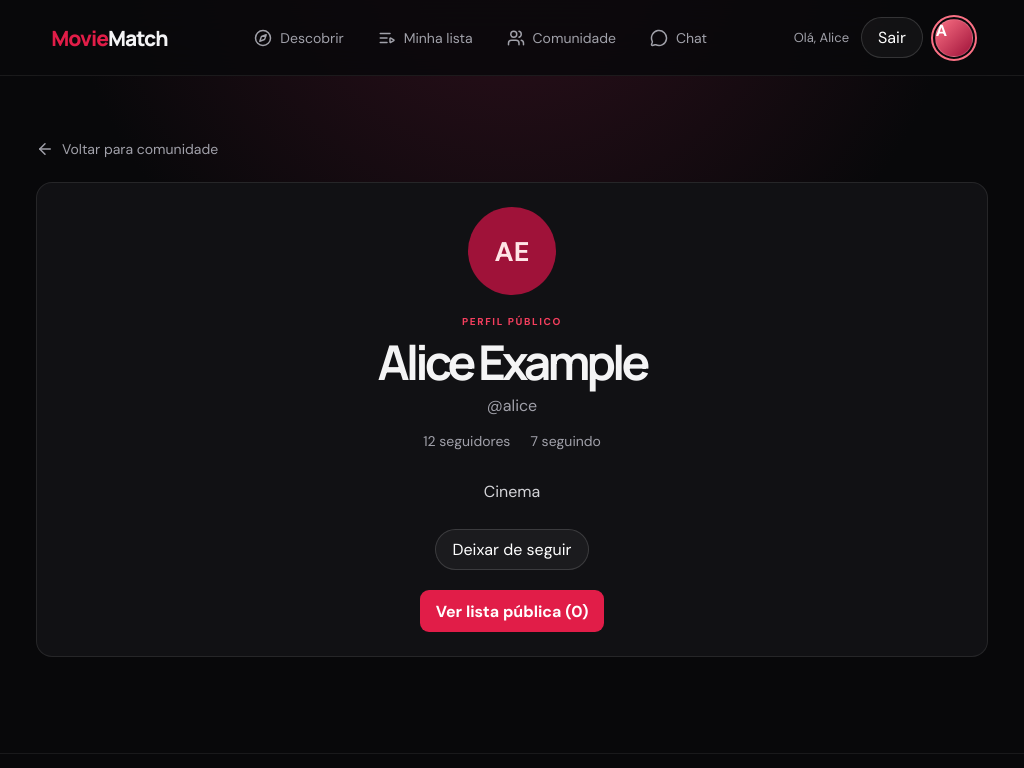
Test: MovieMatch home › lets an authenticated visitor follow and unfollow a public profile
Check: the text "12 seguidores" is shown, box [423, 432, 510, 450]
Check: the text "7 seguindo" is shown, box [530, 432, 601, 450]
Click the button "Deixar de seguir".
click(512, 550)  # box [436, 529, 588, 570]
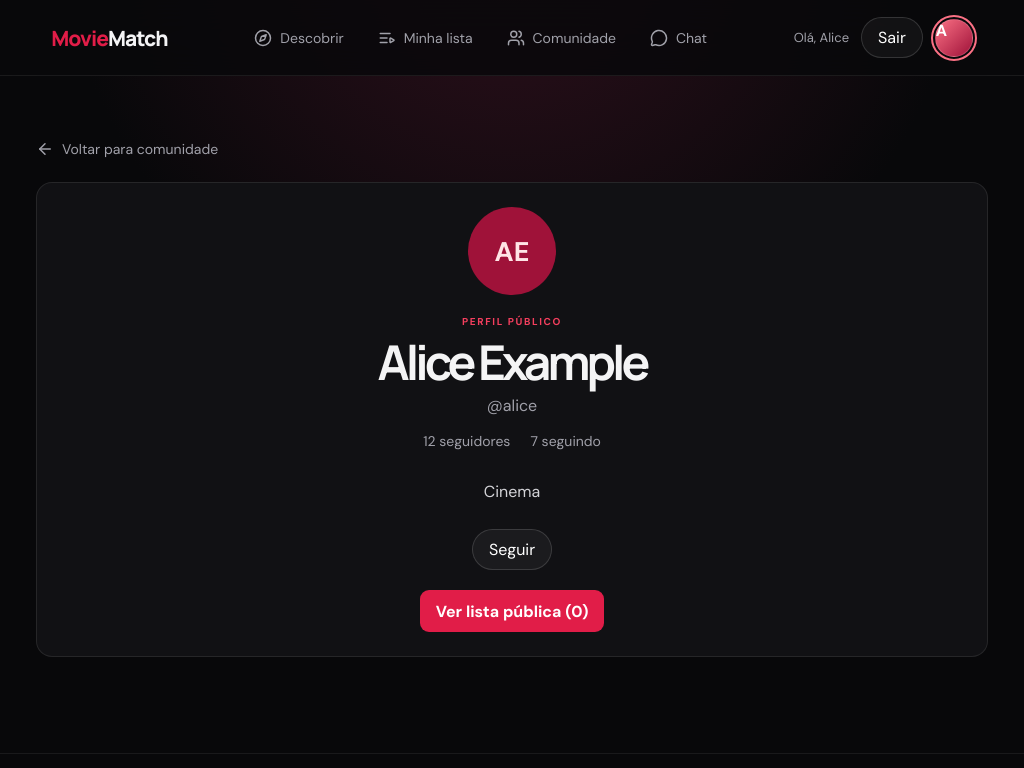
Click the button "Seguir".
click(512, 550)  # box [472, 529, 552, 570]
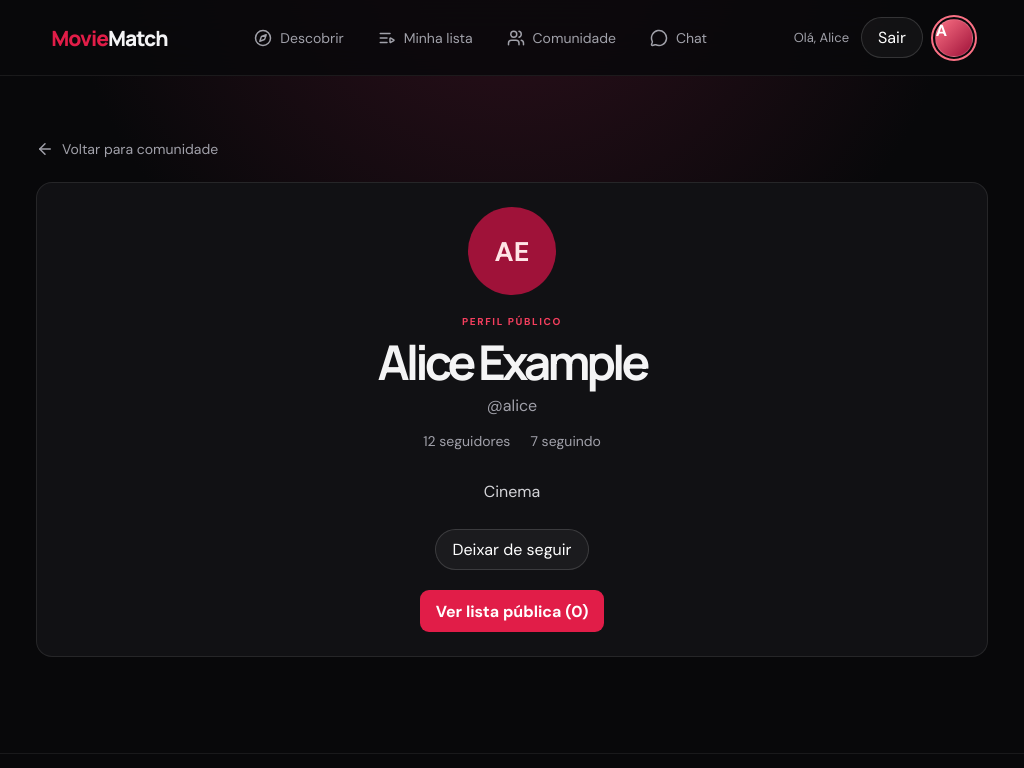
Check: the button "Deixar de seguir" is shown, box [436, 529, 588, 570]
